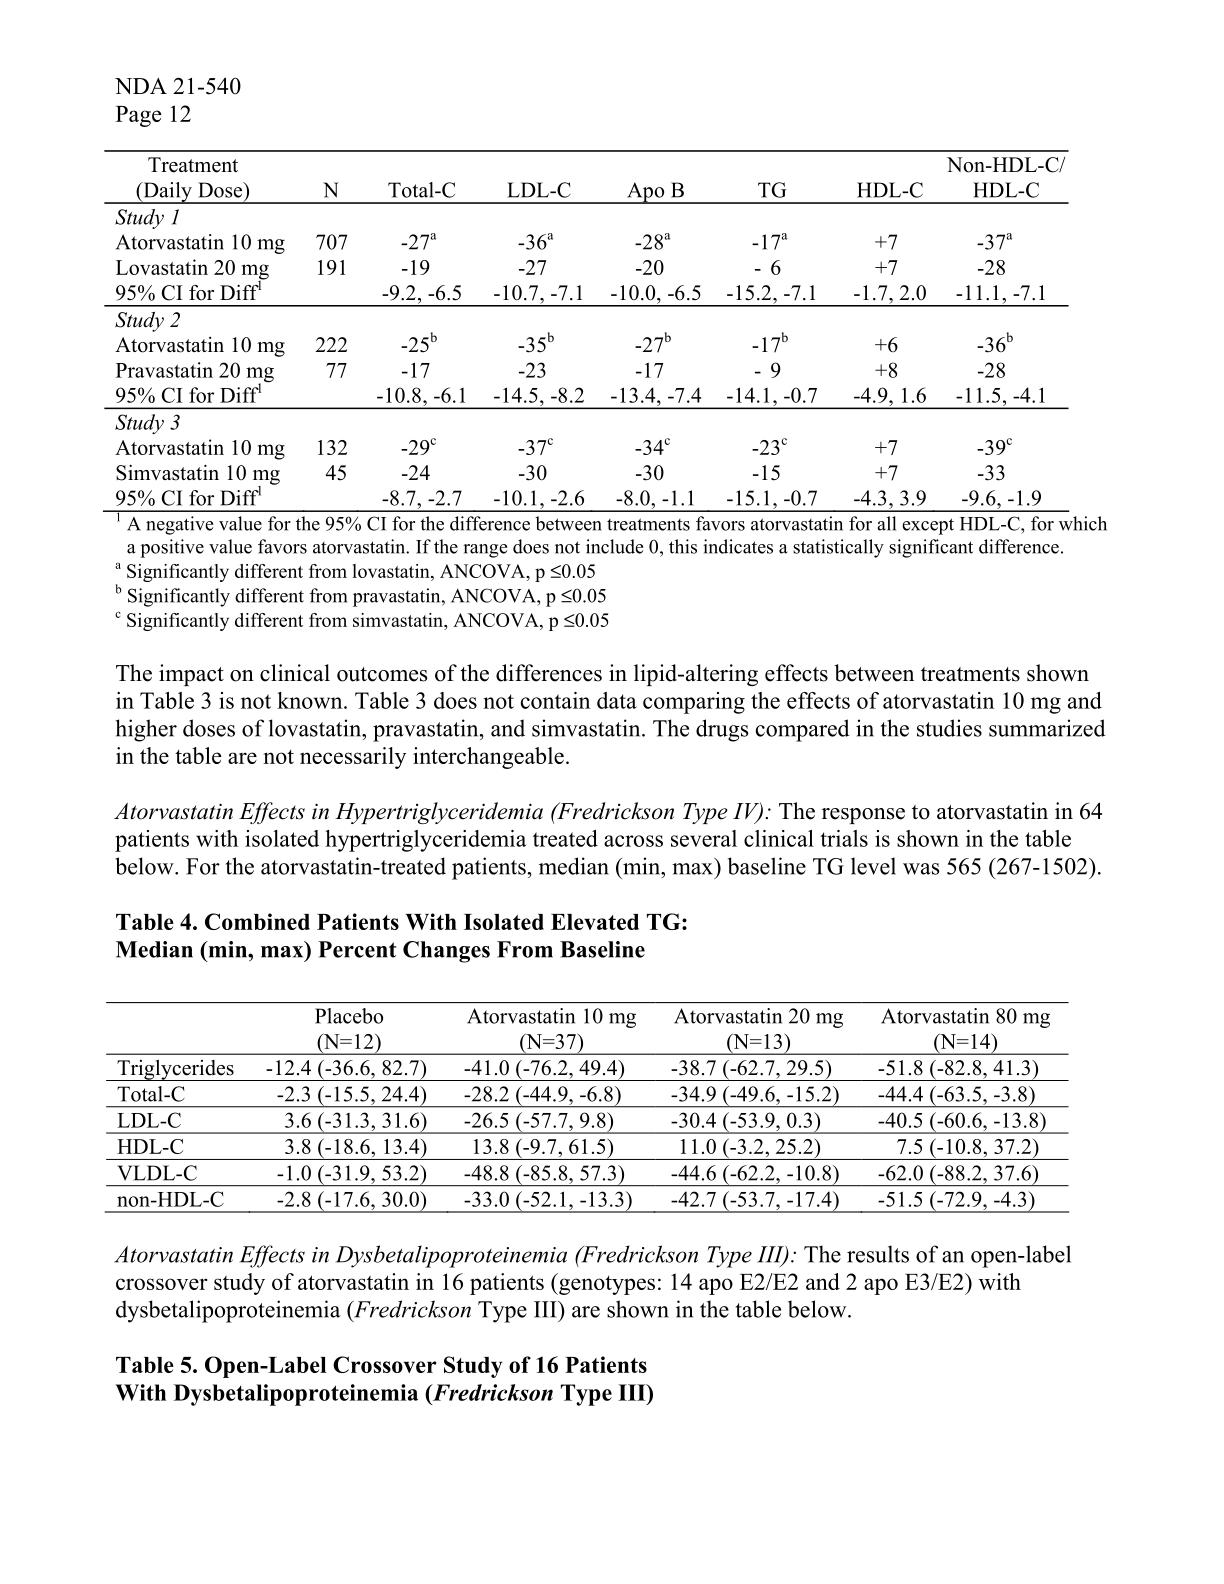partial_lined: (103, 147, 1075, 516), (103, 999, 1072, 1215)
